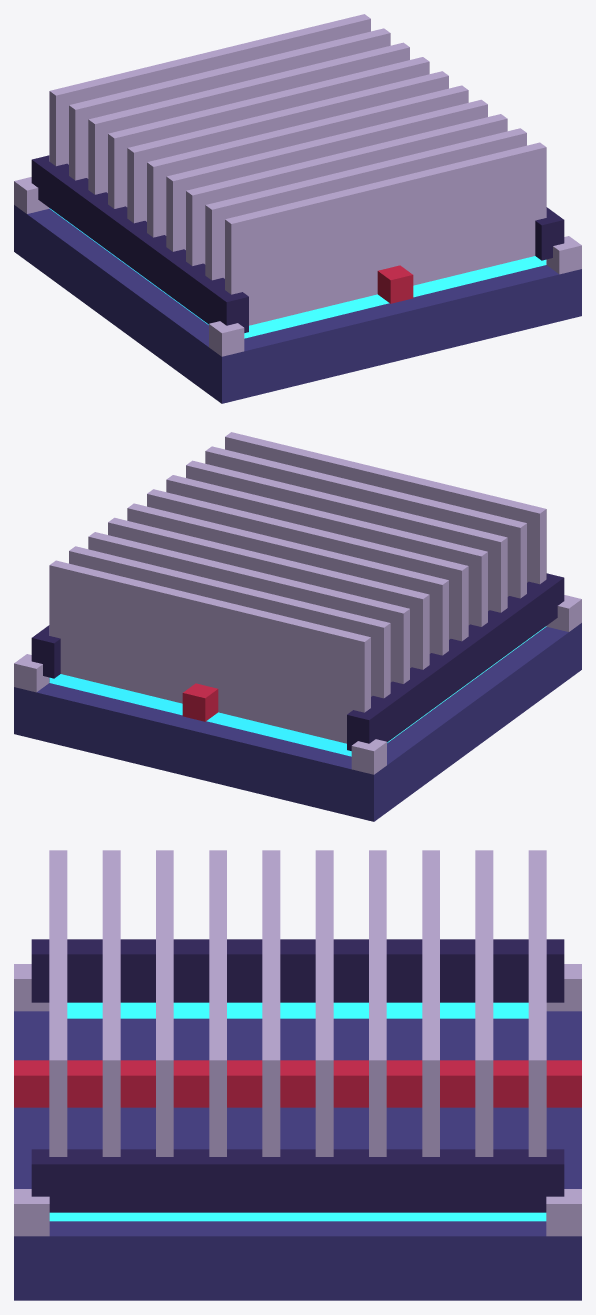
File: radiator.md.glb
3 renders of one model, top to bottom at view 1: azimuth 30°, elevation 25°; view 2: azimuth 150°, elevation 25°; view 3: azimuth 270°, elevation 25°, orthographic. The views are drawn at different scales.
Visible parts, largest first — view 1: radiator.md; view 2: radiator.md; view 3: radiator.md.
Boxes of the visible parts, x1,y1,x2,y2 form: radiator.md: (14,14,581,403); radiator.md: (14,432,581,821); radiator.md: (14,850,581,1300).
Bounding box in the file's own units: 2 × 0.875 × 2.
